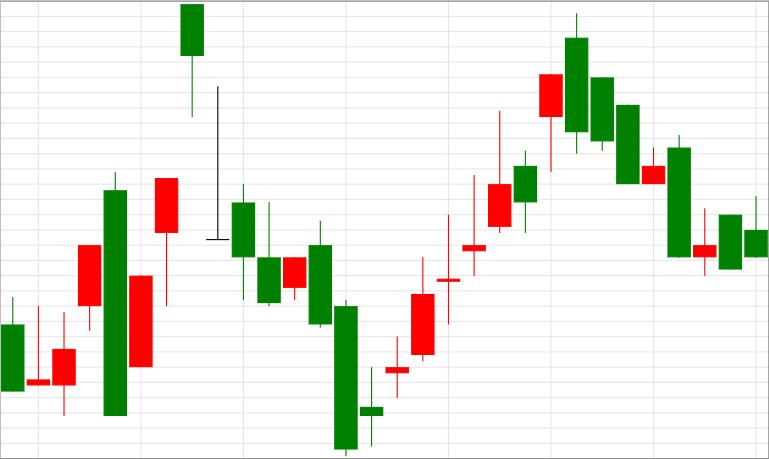bearish_engulfing_fall: (26, 171, 126, 416)
hanging_man_fall: (386, 74, 563, 398)
